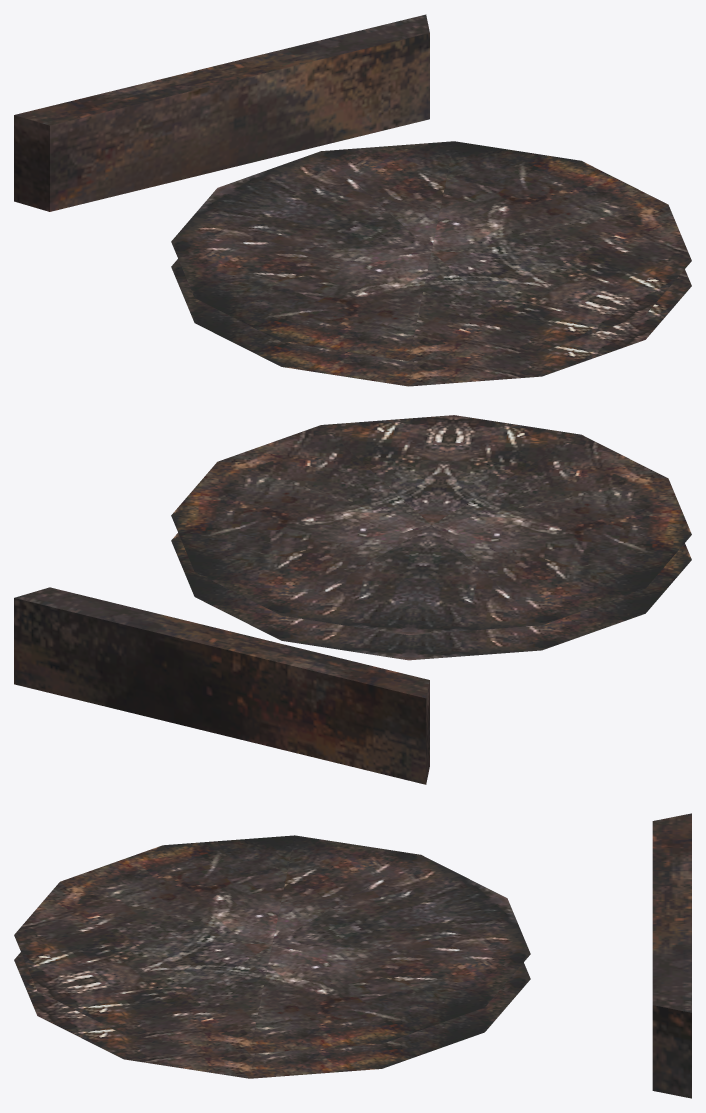
The model's file is p6_zm_nuked_table_art_LOD3.obj.
The picture shows the model from 3 angles, top to bottom: view 1: azimuth 30°, elevation 25°; view 2: azimuth 150°, elevation 25°; view 3: azimuth 270°, elevation 25°; orthographic projection.
Visible parts, largest first — view 1: mtl_p6_zm_nuked_table_art; view 2: mtl_p6_zm_nuked_table_art; view 3: mtl_p6_zm_nuked_table_art.
Part boxes in pixels (x1,y1,x2,y2): mtl_p6_zm_nuked_table_art: [14, 14, 691, 386]; mtl_p6_zm_nuked_table_art: [14, 415, 691, 784]; mtl_p6_zm_nuked_table_art: [14, 813, 691, 1098].
Size of the model in its own units: 50.11 by 9.17 by 65.74.
